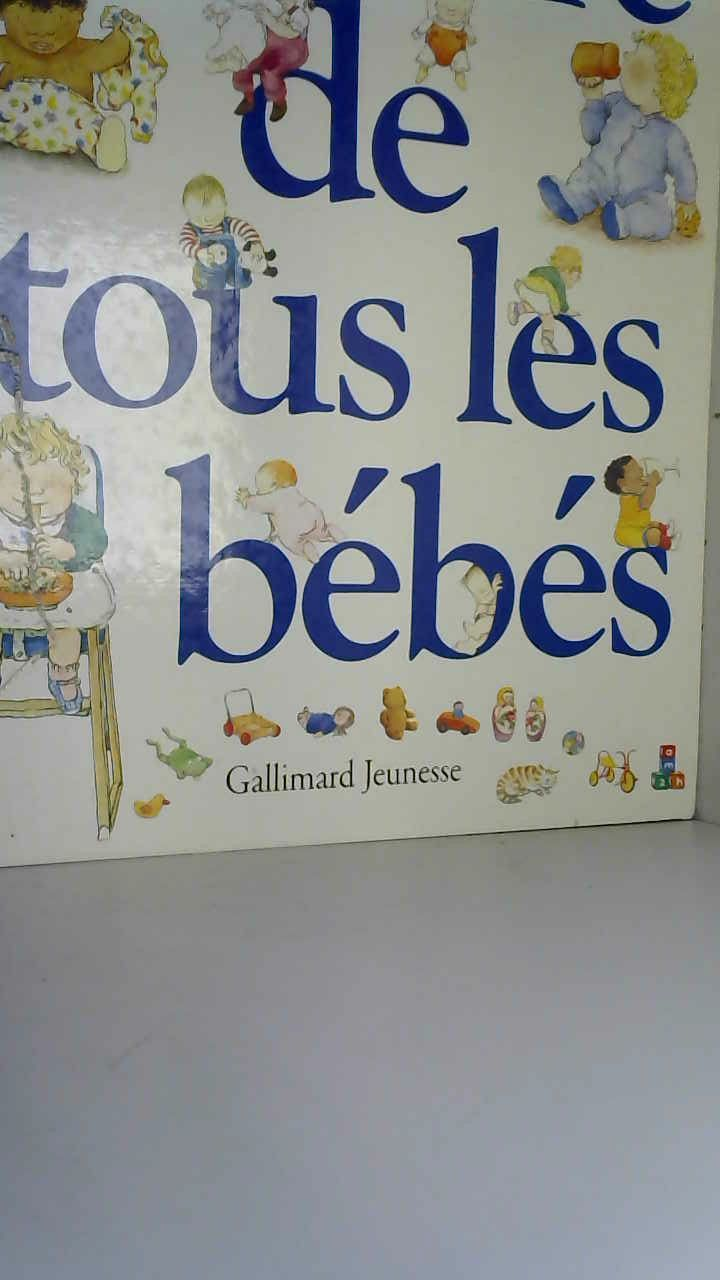book: (0, 0, 694, 885)
